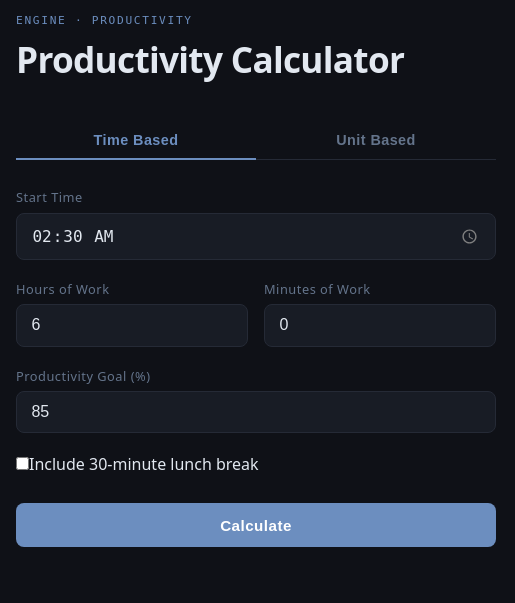
Test: CalculatorPage › clears error when input changes on unit_based
Click the tab "Unit Based". click: (376, 141)
box: [256, 121, 496, 160]
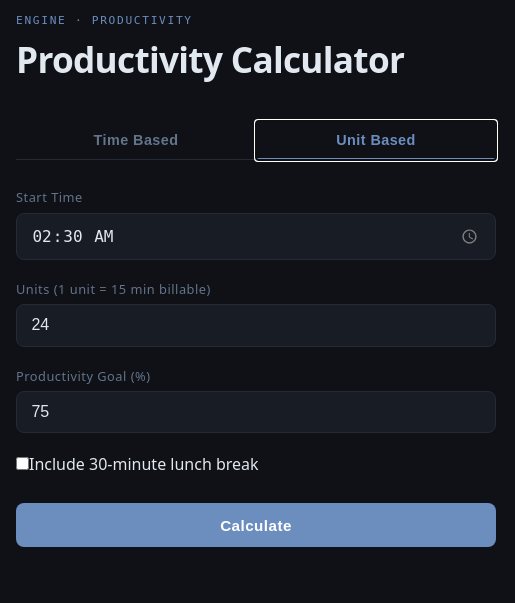
Click the button "Calculate". click: (256, 525)
box: [16, 503, 496, 548]
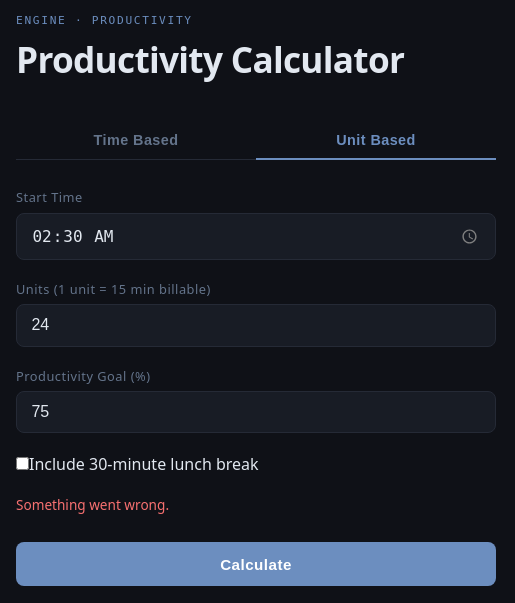
Now the text "Something went wrong." is shown, box [16, 495, 169, 514]
Replace the text in the number field labelled "Units (1 unit = 15 min billable)" with "10". click: (256, 325)
box: [16, 304, 496, 346]
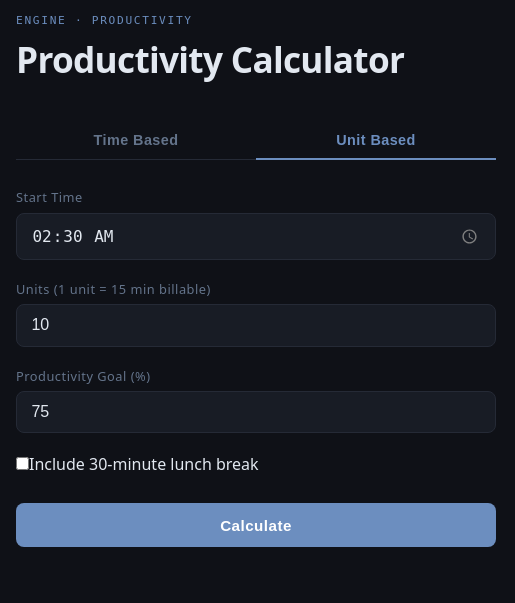
Now the text "Something went wrong." is gone
